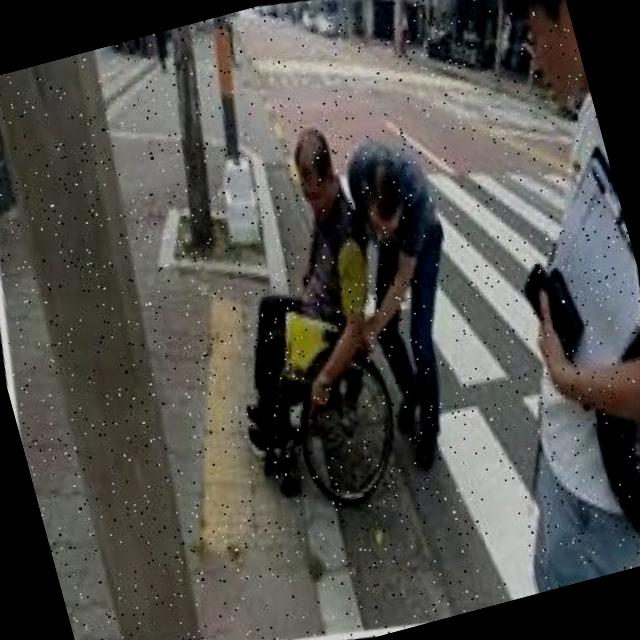Person: (373, 0, 640, 593), (158, 102, 447, 532), (295, 122, 516, 484)
